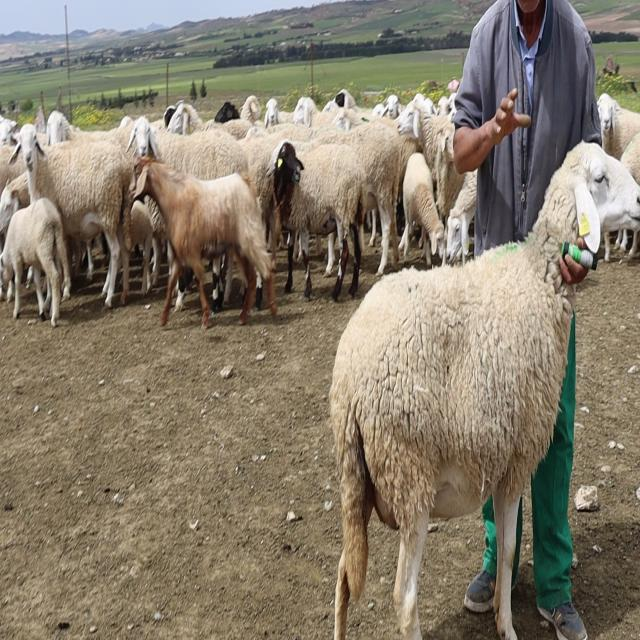Score_3: (329, 143, 640, 639)
